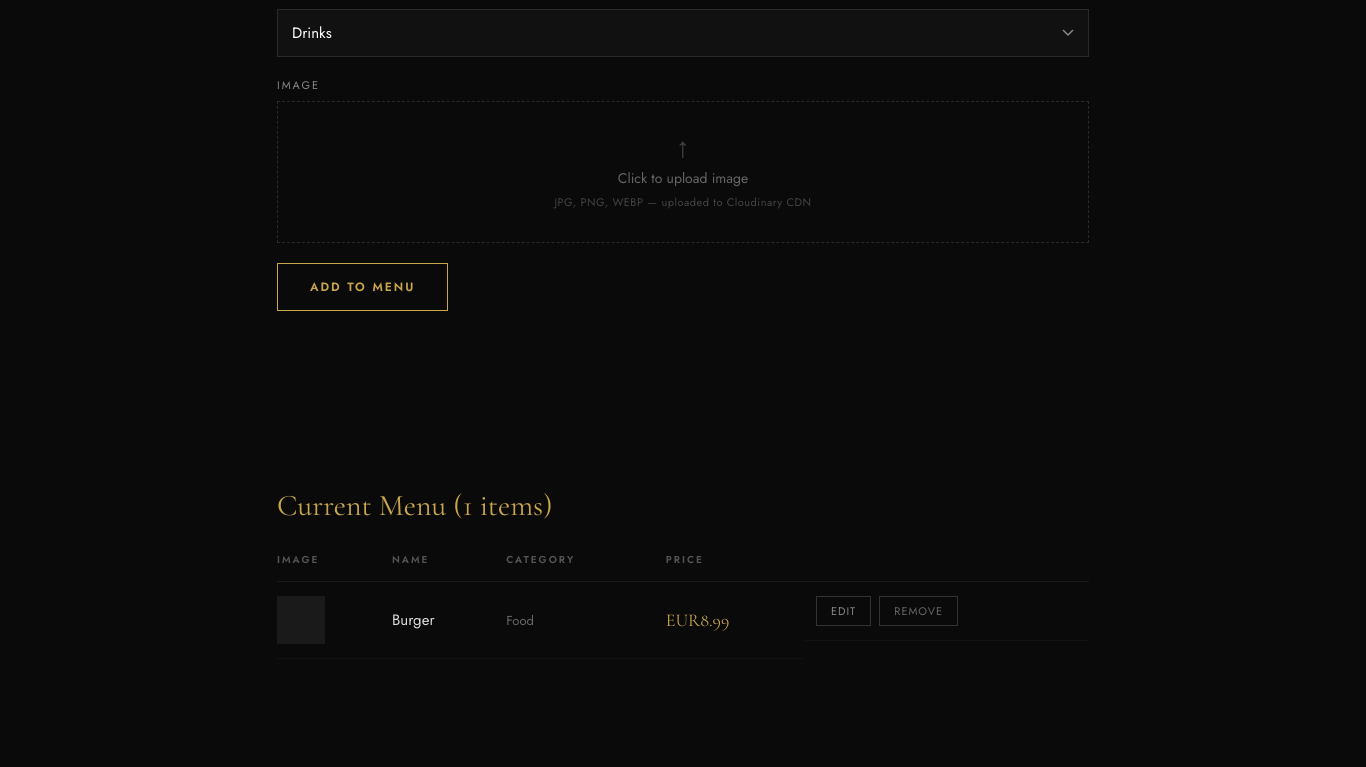
Test case: AdminPage › populates form when Edit is clicked
The image size is (1366, 767).
(page scrolled)
Expected: the text "Burger" is shown, top-left (380, 582), bottom-right (494, 658)
Click the button "Edit": (844,611) top-left (816, 596), bottom-right (871, 626)
(page scrolled)
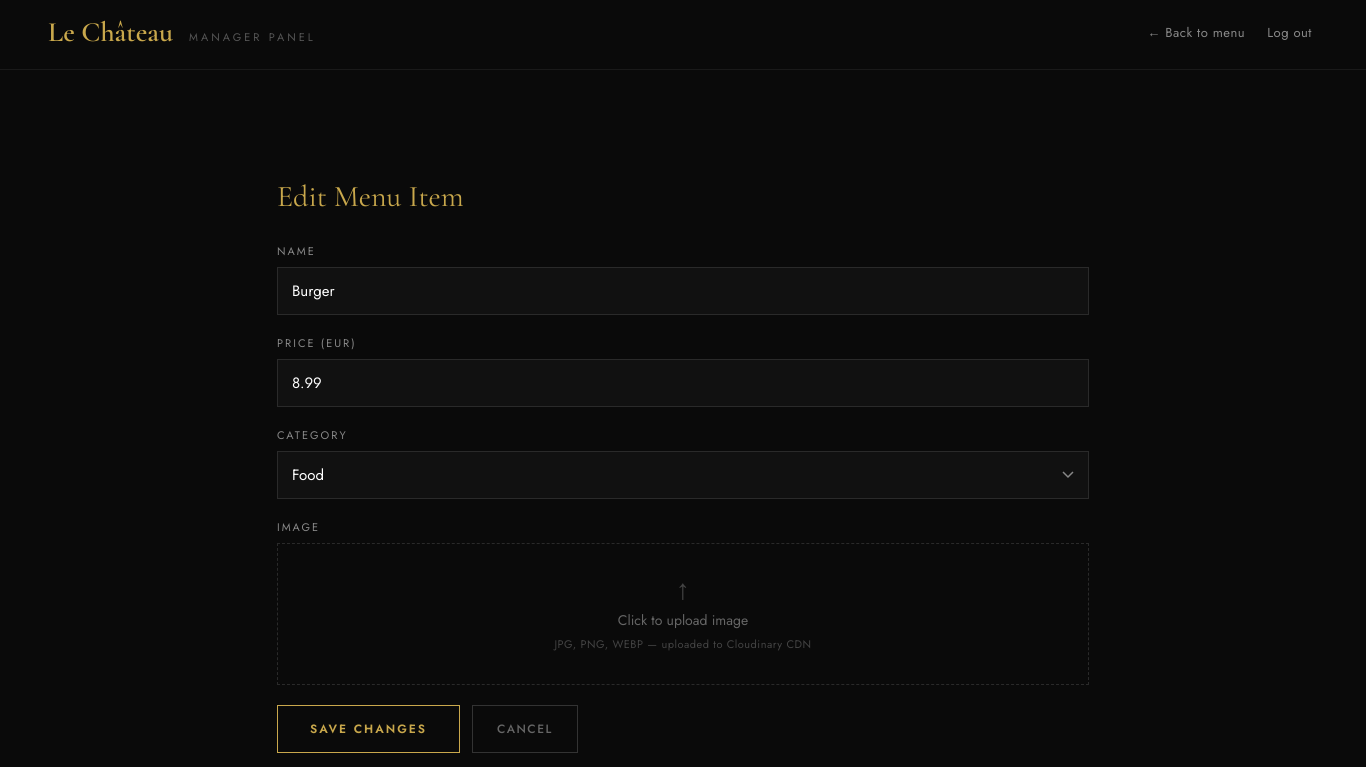
Expected: the heading "Edit Menu Item" is shown, top-left (277, 178), bottom-right (464, 215)
Expected: the field showing "Burger" is shown, top-left (277, 267), bottom-right (1089, 315)
Expected: the number field showing "8.99" is shown, top-left (277, 359), bottom-right (1089, 407)
